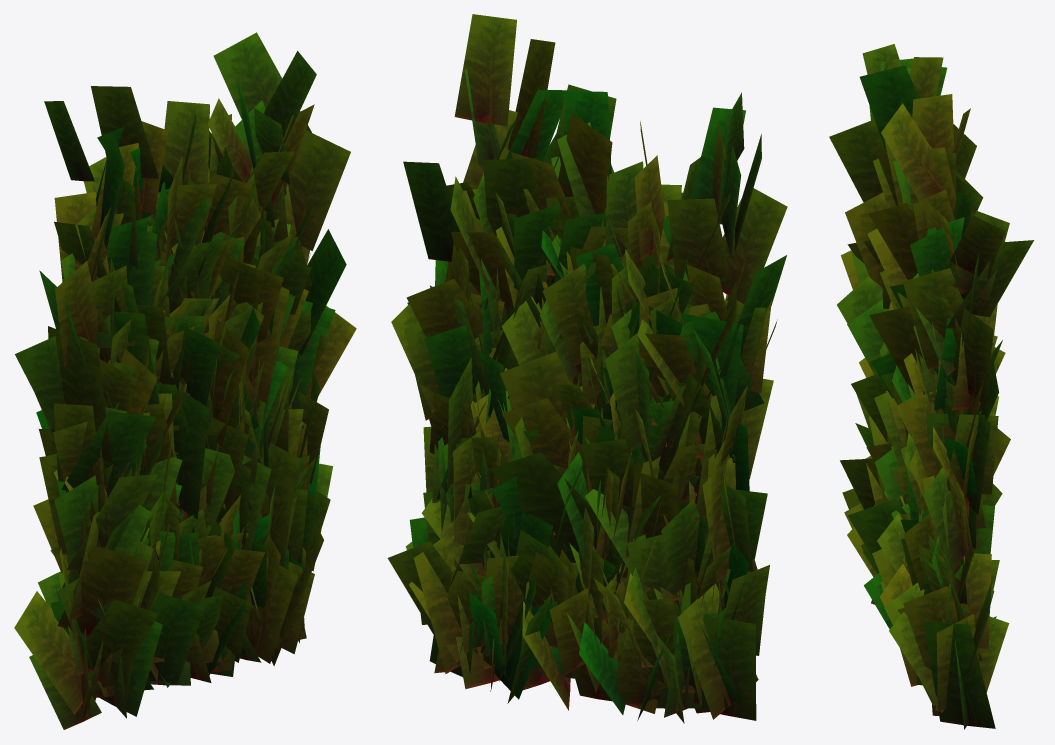
The model's file is thuja 13.glb.
3 renders of one model, left to right at view 1: azimuth 30°, elevation 25°; view 2: azimuth 150°, elevation 25°; view 3: azimuth 270°, elevation 25°, orthographic. The views are drawn at different scales.
Visible parts, largest first — view 1: thuja 13; view 2: thuja 13; view 3: thuja 13.
Part boxes in pixels (bbox=[...]): thuja 13: bbox=[14, 32, 356, 729]; thuja 13: bbox=[387, 14, 787, 723]; thuja 13: bbox=[829, 44, 1033, 729].
Bounding box in the file's own units: 2.34 × 4 × 1.23.
1 material, 1 textured.
